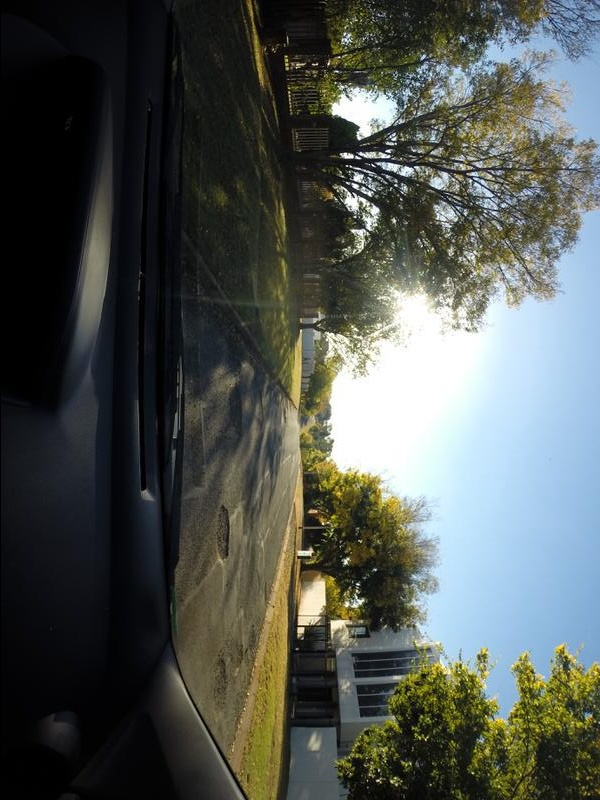pothole: (202, 506, 239, 568), (223, 383, 246, 456), (206, 653, 229, 710), (248, 386, 271, 435)
